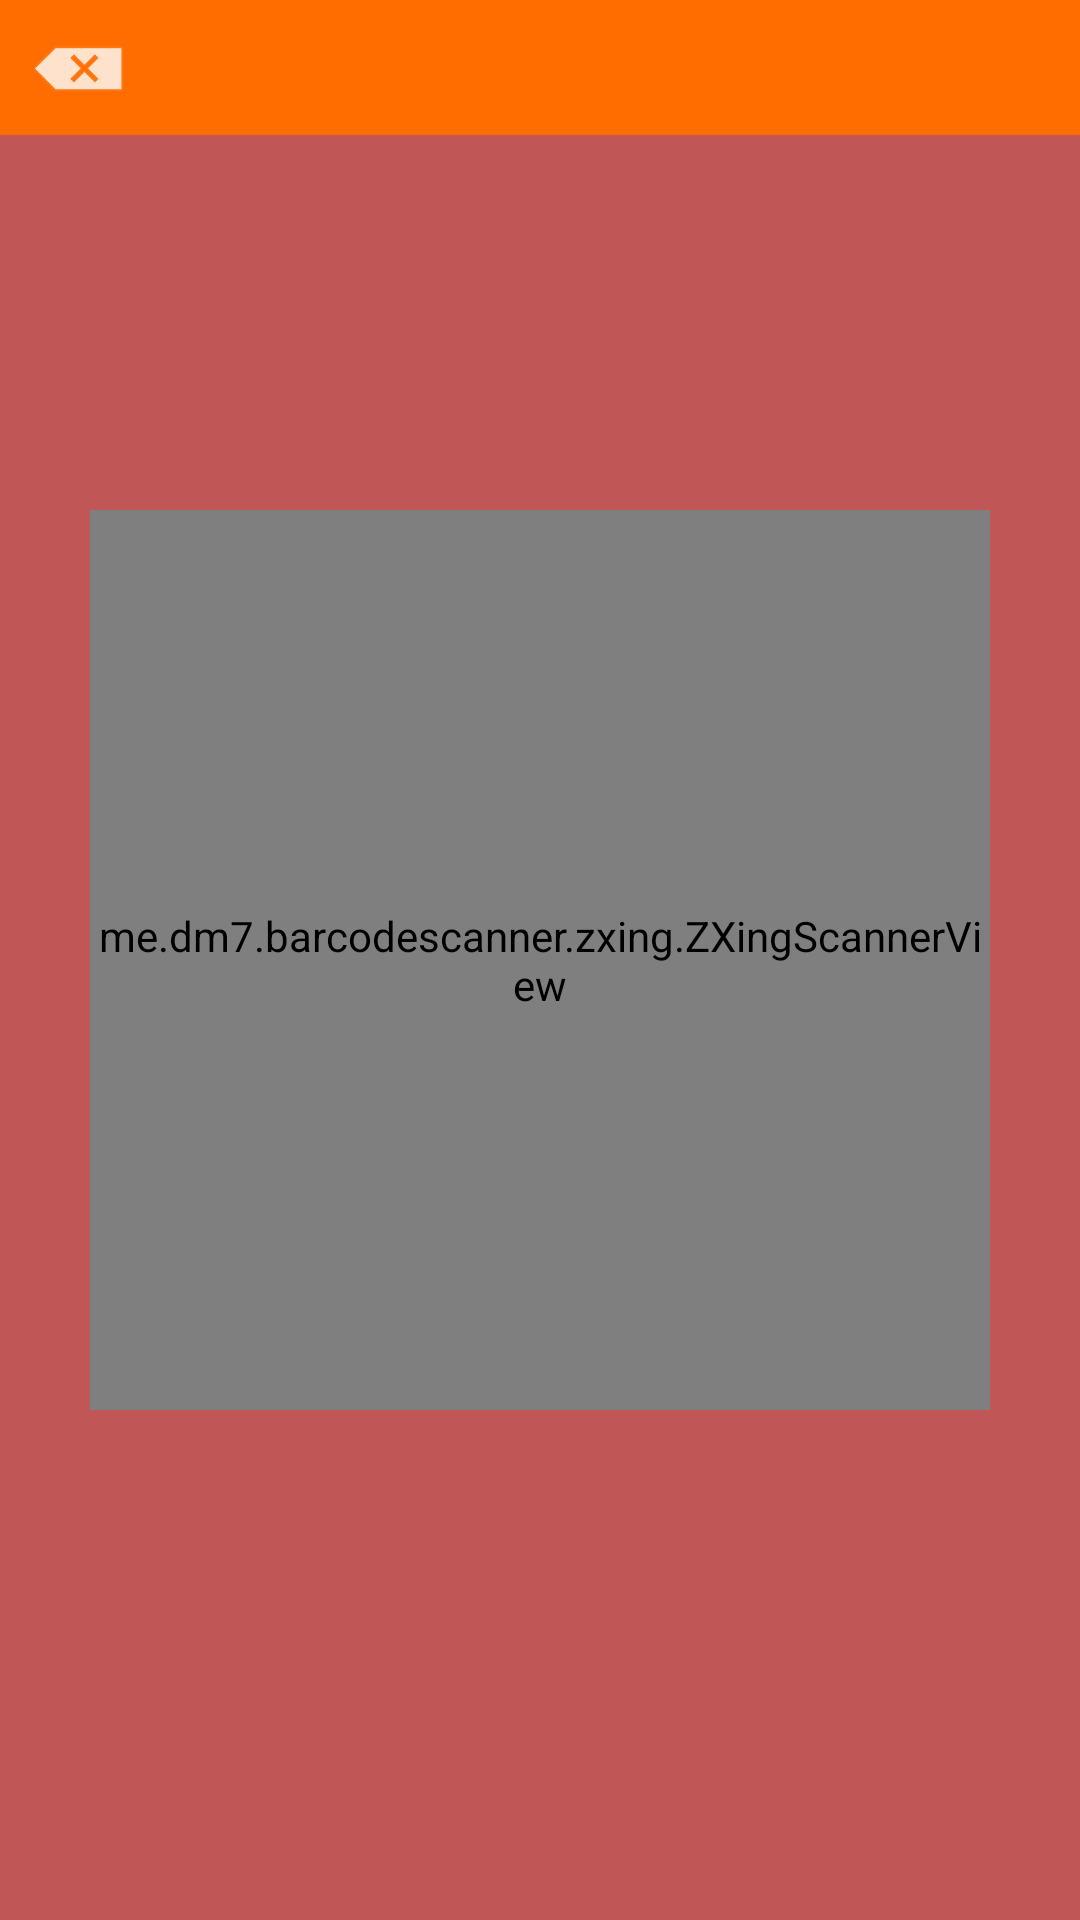

Icon bounding boxes for this 1080x1920 phone screenshot, format box=[x1, y1, x2, y2]:
delete: box=[35, 48, 122, 90]
